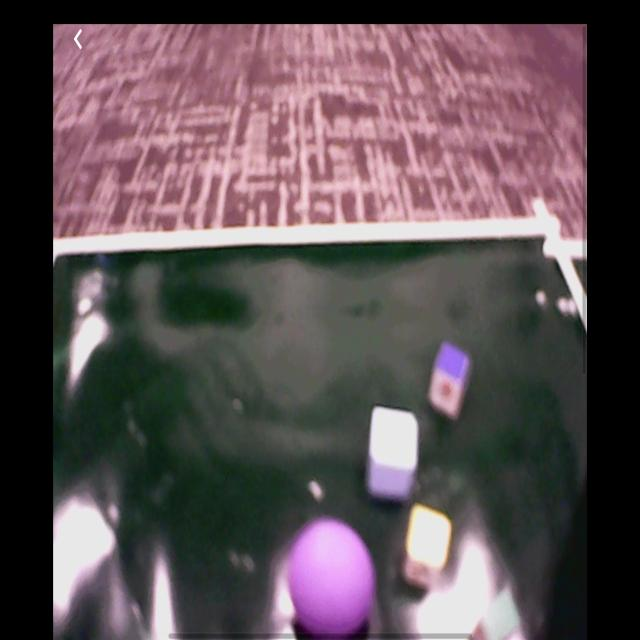ball: (287, 517, 377, 637)
